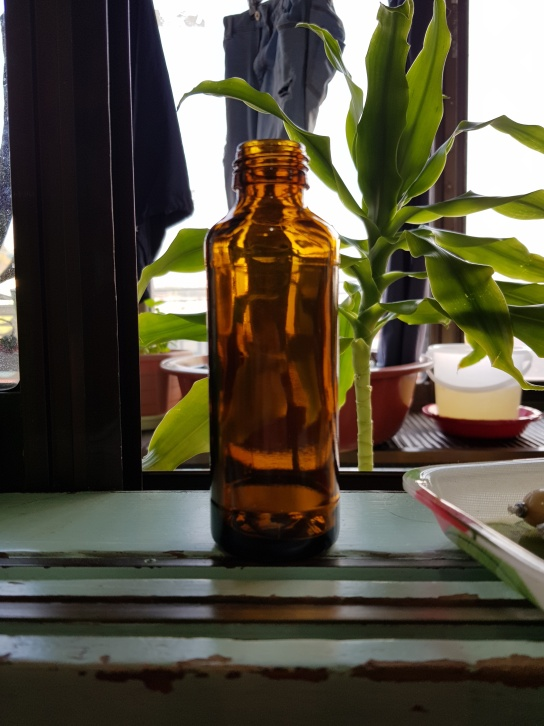Glass: (202, 137, 343, 563)
